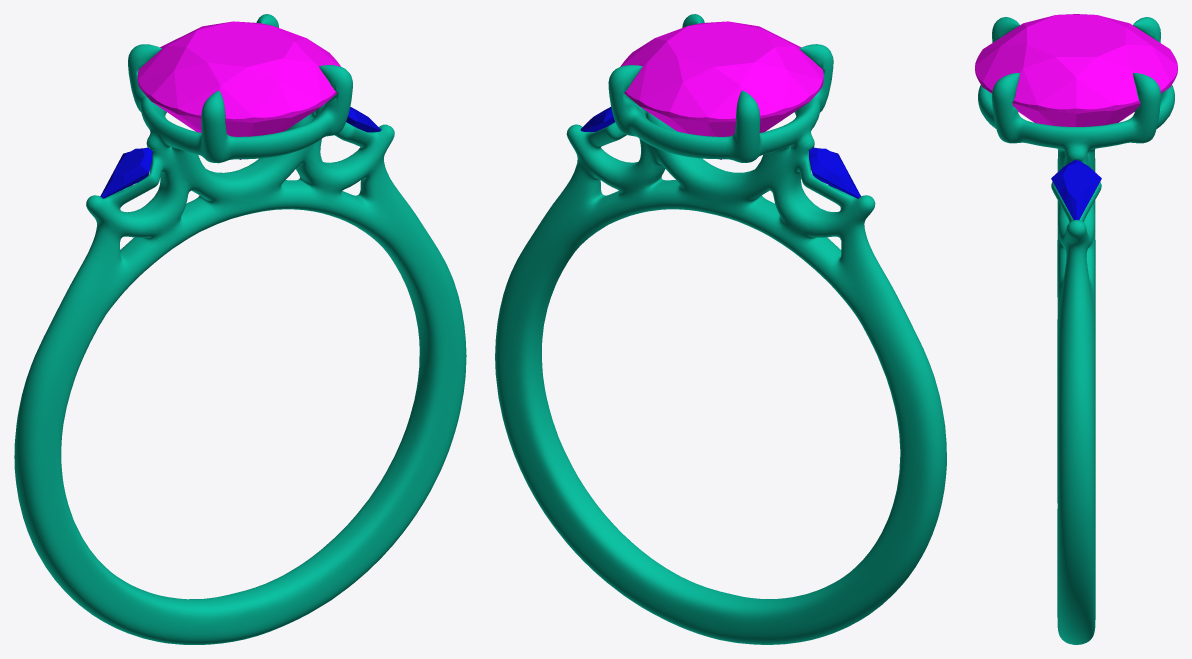
The model's file is BE1D5400_RD_200ct_RENDER.glb.
The picture shows the model from 3 angles, left to right: view 1: azimuth 30°, elevation 25°; view 2: azimuth 150°, elevation 25°; view 3: azimuth 270°, elevation 25°; orthographic projection.
Visible parts, largest first — view 1: Metal 01, CS_Diamond_Round, Diamond_Marquise_side; view 2: Metal 01, CS_Diamond_Round, Diamond_Marquise_side; view 3: Metal 01, CS_Diamond_Round, Diamond_Marquise_side.001.
Part boxes in pixels (x1,y1,x2,y2): Metal 01: (14, 14, 466, 644); CS_Diamond_Round: (137, 21, 340, 159); Diamond_Marquise_side: (100, 147, 152, 198); Metal 01: (495, 14, 946, 644); CS_Diamond_Round: (620, 21, 823, 159); Diamond_Marquise_side: (809, 147, 860, 198); Metal 01: (978, 17, 1174, 644); CS_Diamond_Round: (975, 14, 1177, 126); Diamond_Marquise_side.001: (1051, 160, 1101, 220).
Bounding box in the file's own units: 20.04 × 25.48 × 8.
